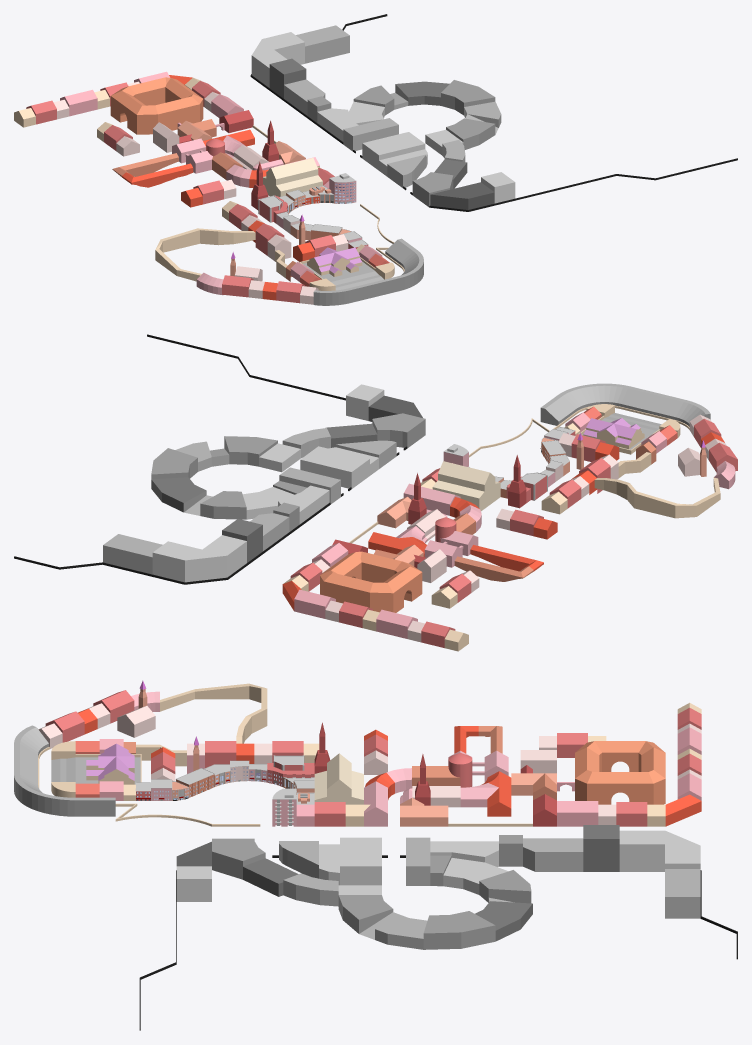
The model's file is Coast Town Test Track buildings Render.fbx.
3 views of the same model, one above another, from view 1: azimuth 30°, elevation 25°; view 2: azimuth 150°, elevation 25°; view 3: azimuth 270°, elevation 25° (orthographic). The views are drawn at different scales.
Visible parts, largest first — view 1: G-Object.210, G-Object.212, G-Object.137, G-Object.153, G-Object.241, G-Object.169, G-Object.240, G-Object.213, G-Object.225, G-Object.237, G-Object.226, G-Object.239 (+24 smaller); view 2: G-Object.210, G-Object.212, G-Object.241, G-Object.169, G-Object.153, G-Object.137, G-Object.225, G-Object.240, G-Object.244, G-Object.239, G-Object.221, G-Object.237 (+33 smaller); view 3: G-Object.210, G-Object.212, G-Object.241, G-Object.137, G-Object.237, G-Object.153, G-Object.225, G-Object.231, G-Object.169, G-Object.240, G-Object.232, G-Object.244 (+37 smaller).
Part boxes in pixels (x1,y1,x2,y2): G-Object.210: (110,77,203,134); G-Object.212: (313,238,423,305); G-Object.137: (299,247,383,290); G-Object.153: (155,228,255,281); G-Object.241: (251,32,304,87); G-Object.169: (263,158,322,196); G-Object.240: (296,25,349,63); G-Object.213: (430,182,494,209); G-Object.225: (362,132,425,170); G-Object.237: (441,80,495,115); G-Object.226: (343,118,398,151); G-Object.239: (395,81,449,105); G-Object.210: (320,551,422,612); G-Object.212: (540,383,710,426); G-Object.241: (152,535,246,582); G-Object.169: (432,461,500,511); G-Object.153: (594,477,720,518); G-Object.137: (578,413,661,454); G-Object.225: (300,446,369,488); G-Object.240: (103,534,162,574); G-Object.244: (372,413,425,448); G-Object.239: (151,477,206,512); G-Object.221: (224,436,277,466); G-Object.237: (151,448,197,479); G-Object.210: (575,741,665,804); G-Object.212: (14,725,115,816); G-Object.241: (619,830,700,871); G-Object.137: (51,743,141,784); G-Object.237: (423,911,495,949); G-Object.153: (160,683,267,743); G-Object.225: (340,837,381,885); G-Object.231: (523,838,583,871); G-Object.169: (314,753,363,804); G-Object.240: (665,869,700,918); G-Object.232: (583,825,619,871); G-Object.244: (212,838,265,879).
Size of the model in its own units: 131000 by 12000 by 119981.
